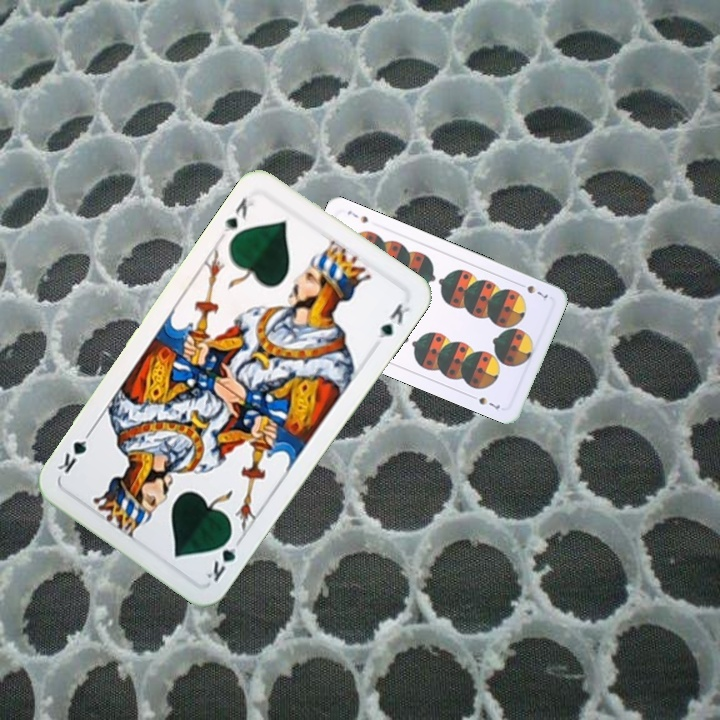GK: (202, 529, 245, 585), (220, 193, 257, 236)
S7: (514, 279, 550, 301)
